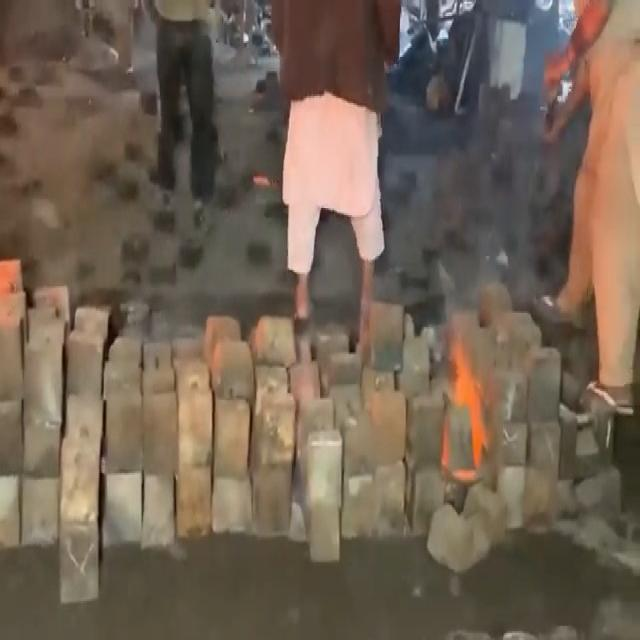dress: (272, 2, 365, 166)
